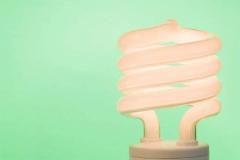lightbulb: (116, 19, 222, 160)
